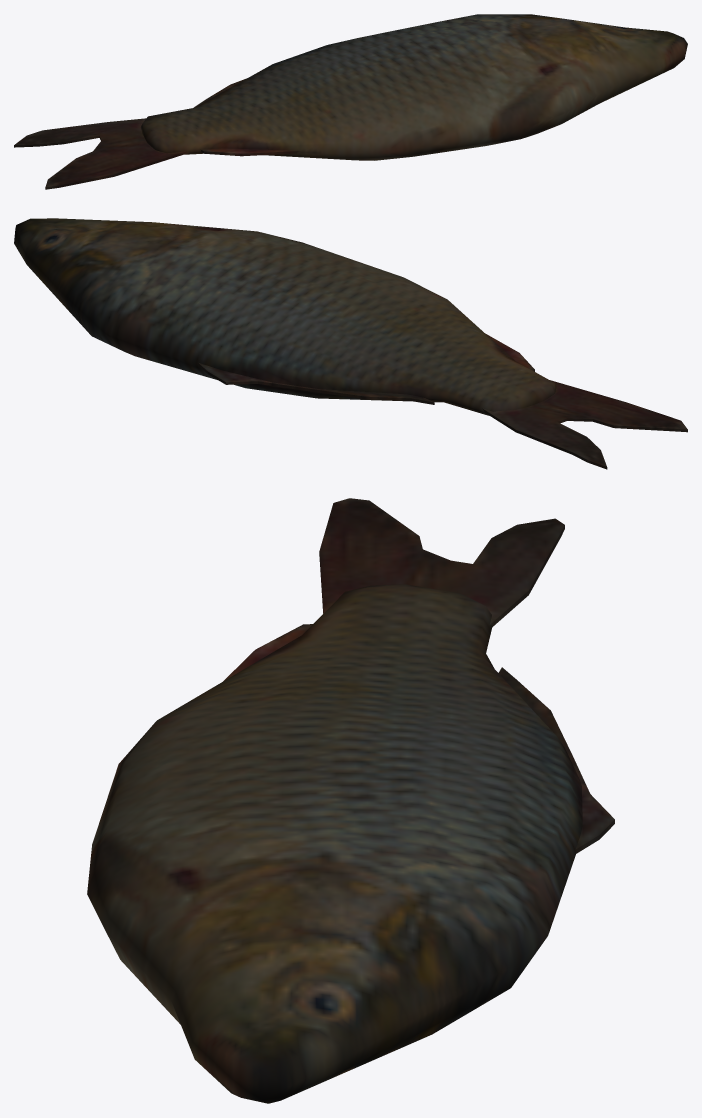
The model's file is fish_mx_1.obj.
The picture shows the model from 3 angles, top to bottom: view 1: azimuth 30°, elevation 25°; view 2: azimuth 150°, elevation 25°; view 3: azimuth 270°, elevation 25°; orthographic projection. The views are drawn at different scales.
Visible parts, largest first — view 1: fish_mx_1; view 2: fish_mx_1; view 3: fish_mx_1.
Part boxes in pixels (<box>): fish_mx_1: <box>14,14,687,189</box>; fish_mx_1: <box>14,218,687,469</box>; fish_mx_1: <box>87,498,614,1103</box>.
Size of the model in its own units: 0.5561 by 0.0641 by 0.2052.
